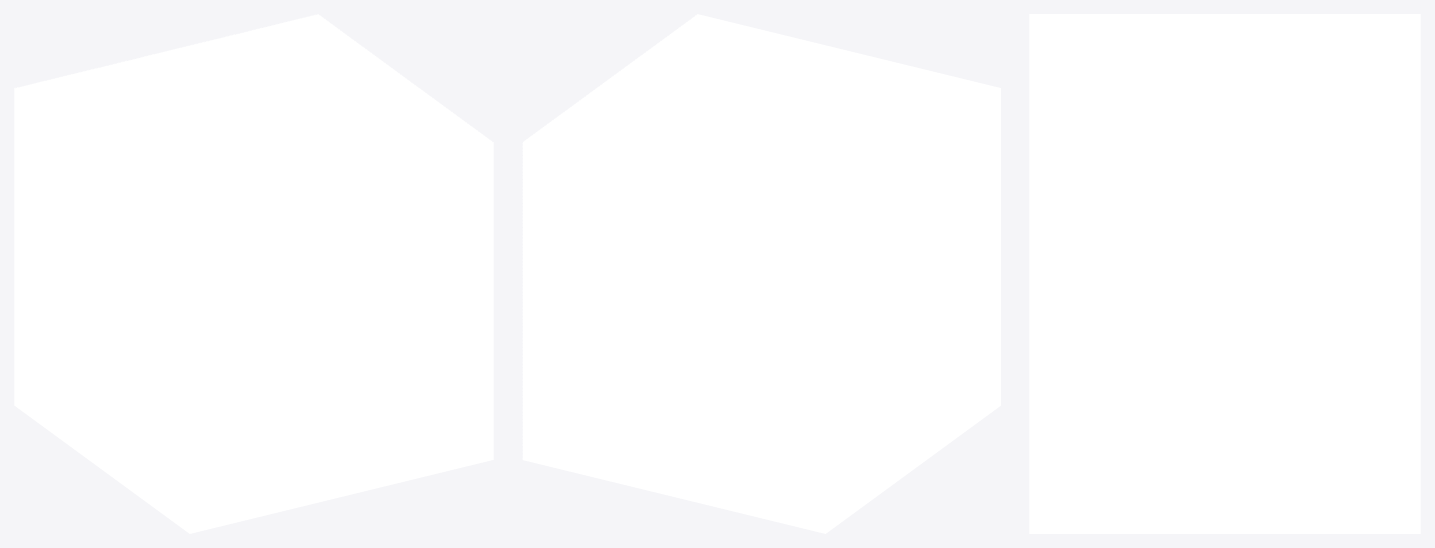
Rendered from blackhole_use_this.glb.
3 renders of one model, left to right at view 1: azimuth 30°, elevation 25°; view 2: azimuth 150°, elevation 25°; view 3: azimuth 270°, elevation 25°, orthographic. The views are drawn at different scales.
Parts seen in each view (by area): view 1: Object_3, Object_2; view 2: Object_2, Object_3, Object_4; view 3: Object_2, Object_4.
Boxes of the visible parts, x1=… form: Object_3: x1=15, y1=14, x2=493, y2=533; Object_2: x1=14, y1=14, x2=491, y2=533; Object_2: x1=523, y1=14, x2=1000, y2=533; Object_3: x1=523, y1=14, x2=1000, y2=532; Object_4: x1=522, y1=143, x2=825, y2=533; Object_2: x1=1029, y1=14, x2=1420, y2=533; Object_4: x1=1029, y1=180, x2=1420, y2=533.
Size of the model in its own units: 1 by 1 by 1.
Materials: 4 (3 with a texture image).
